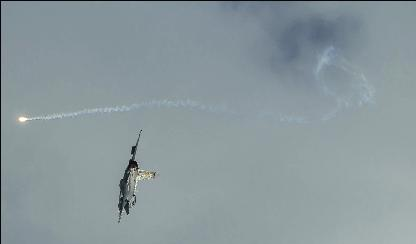JAS39: (116, 128, 160, 223)
